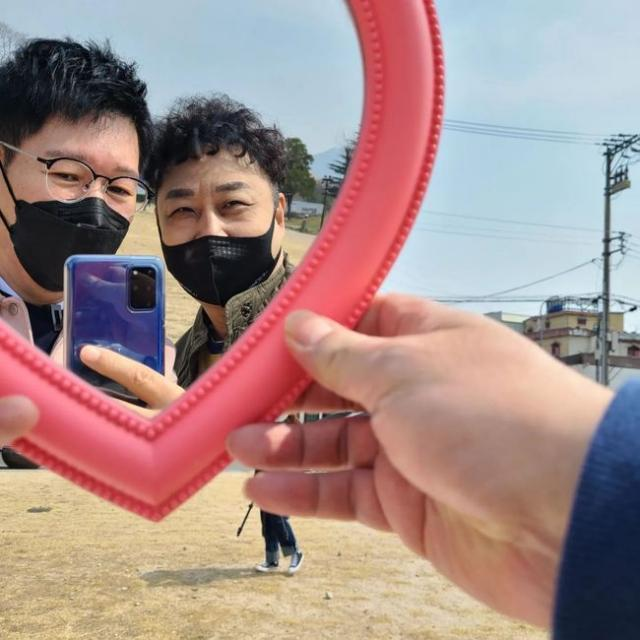phone: (61, 249, 166, 374)
